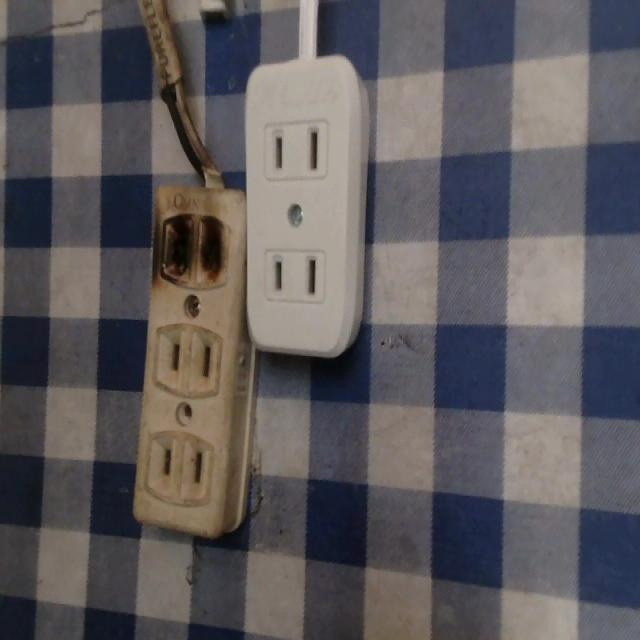-: (157, 208, 231, 292)
